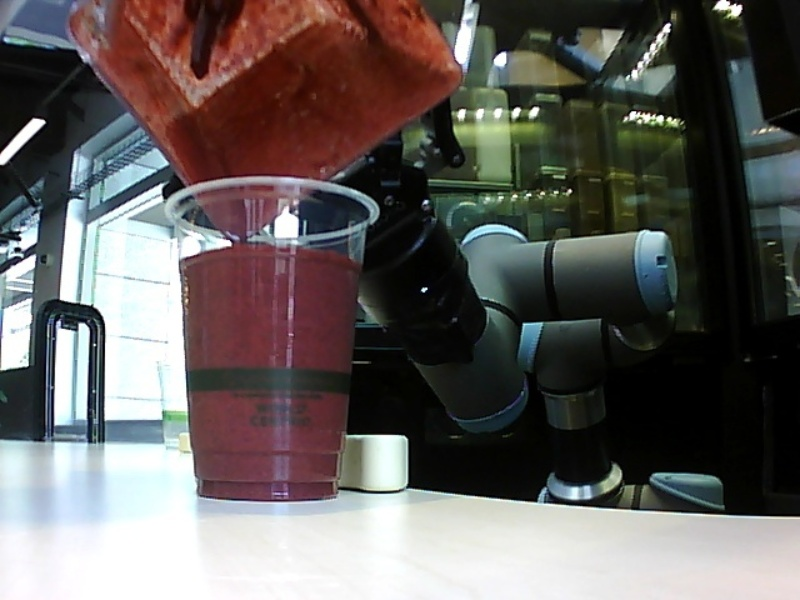cup: (161, 170, 384, 503)
limit: (177, 236, 364, 271)
